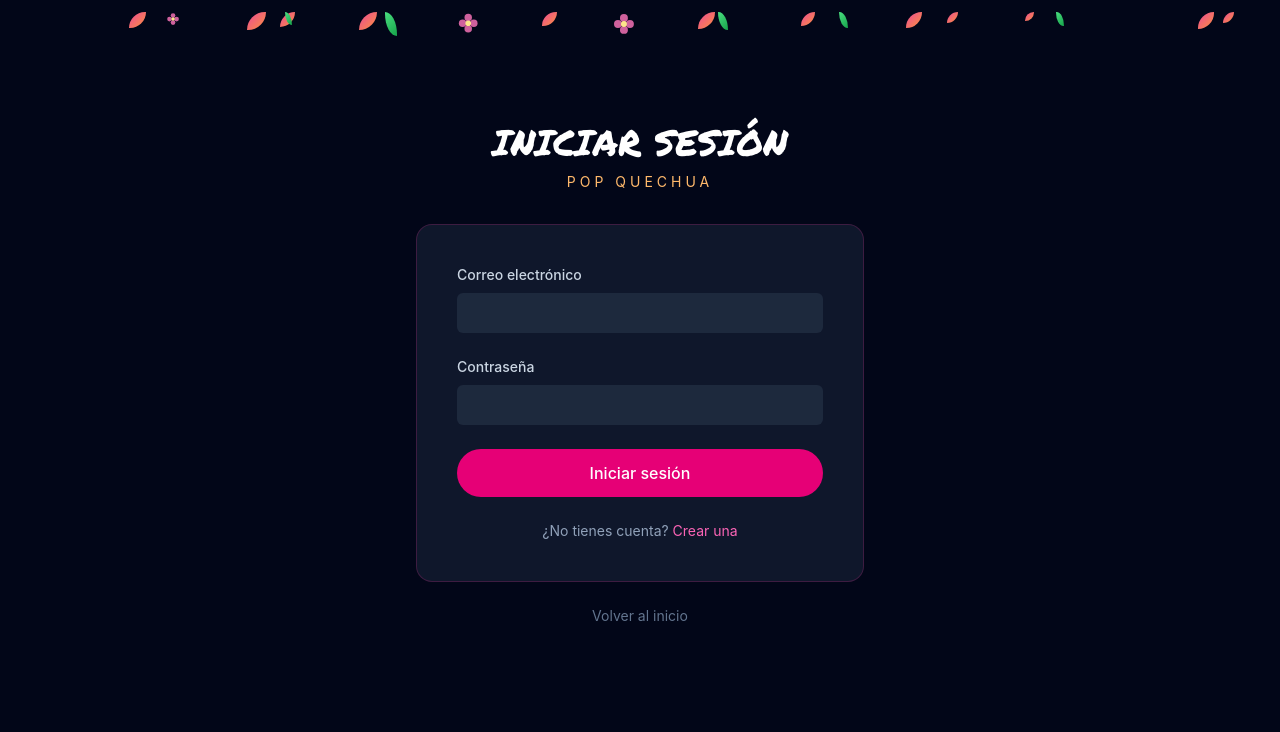
Test: UserLogin page › switches to register mode and shows the nombre field
Click the button "Crear una" at (705, 530), box 673,520 -> 738,540
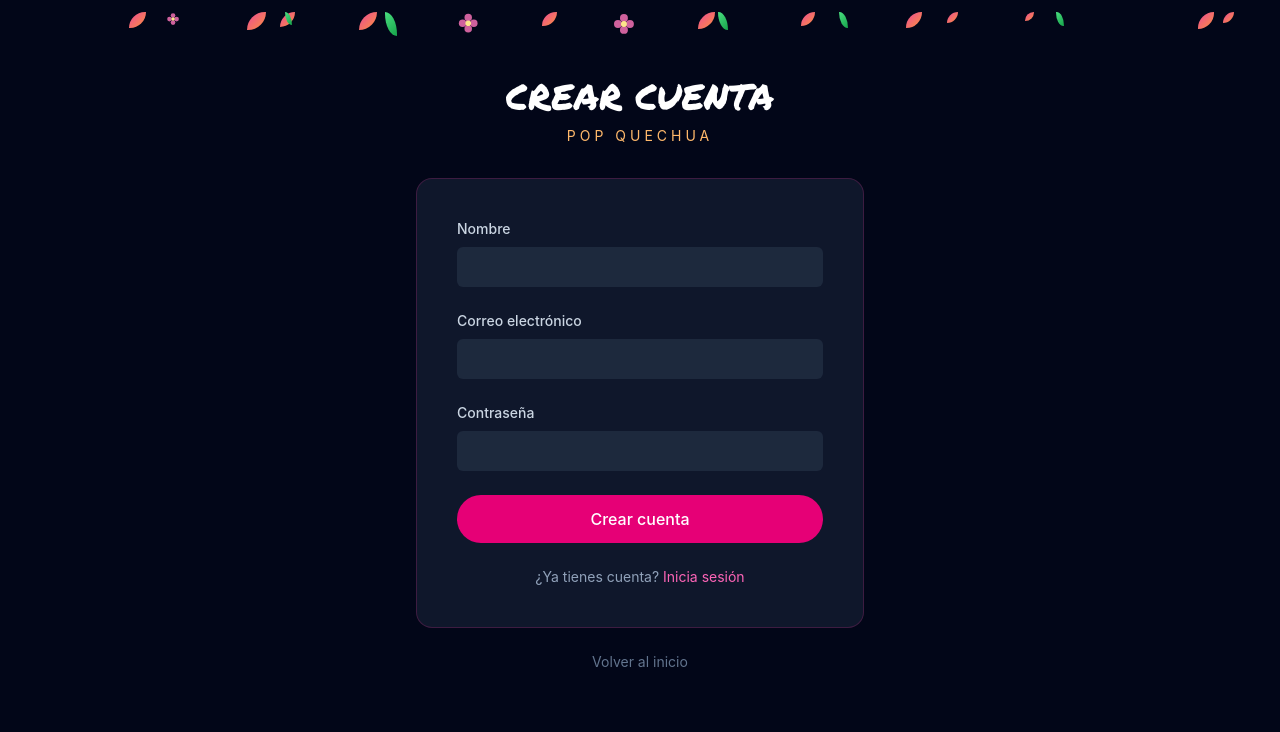
Expected: the heading "Crear Cuenta" is shown, 506,70 -> 774,120
